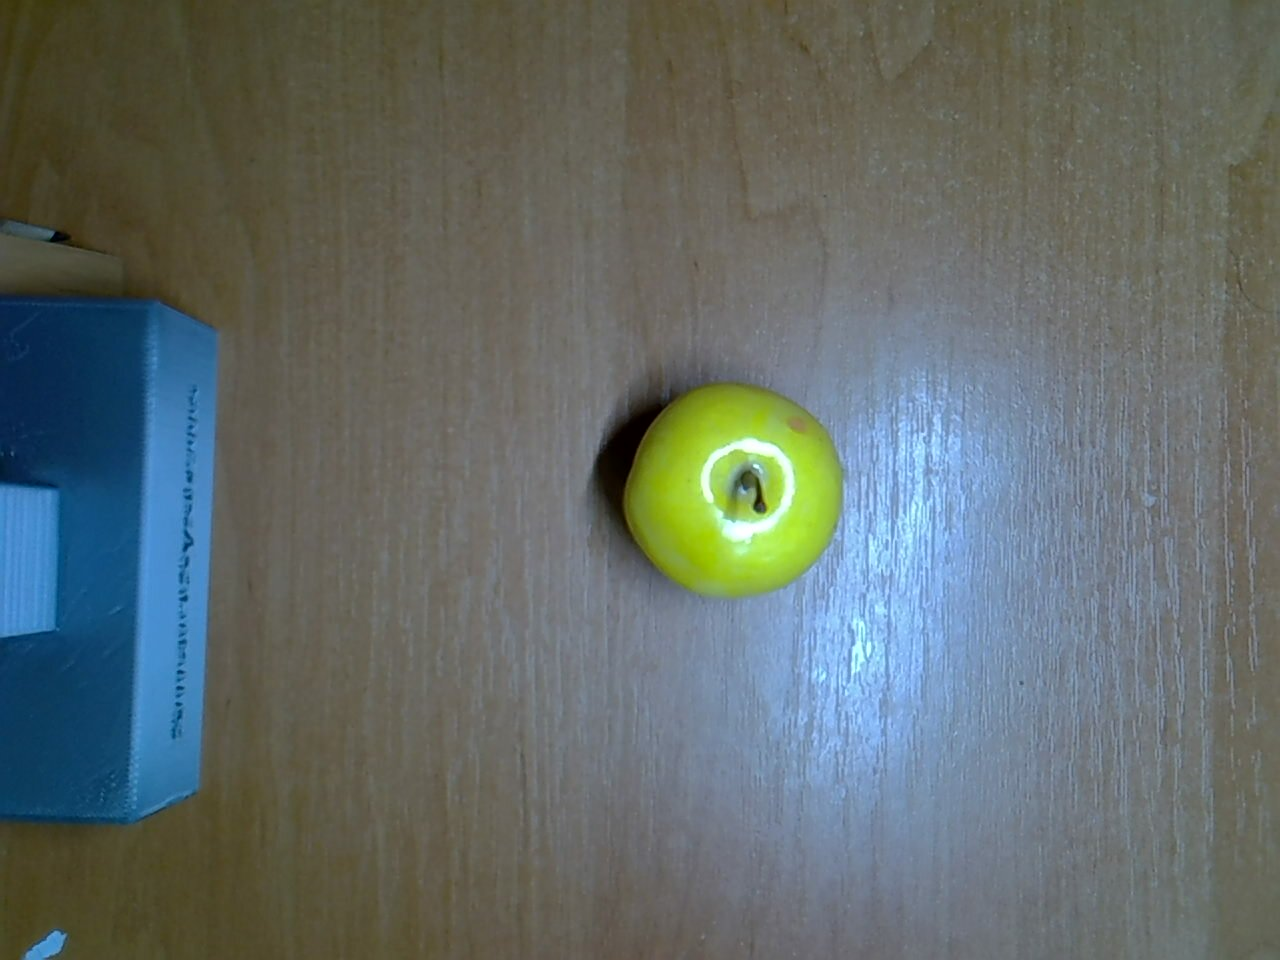apple: (618, 376, 849, 601)
